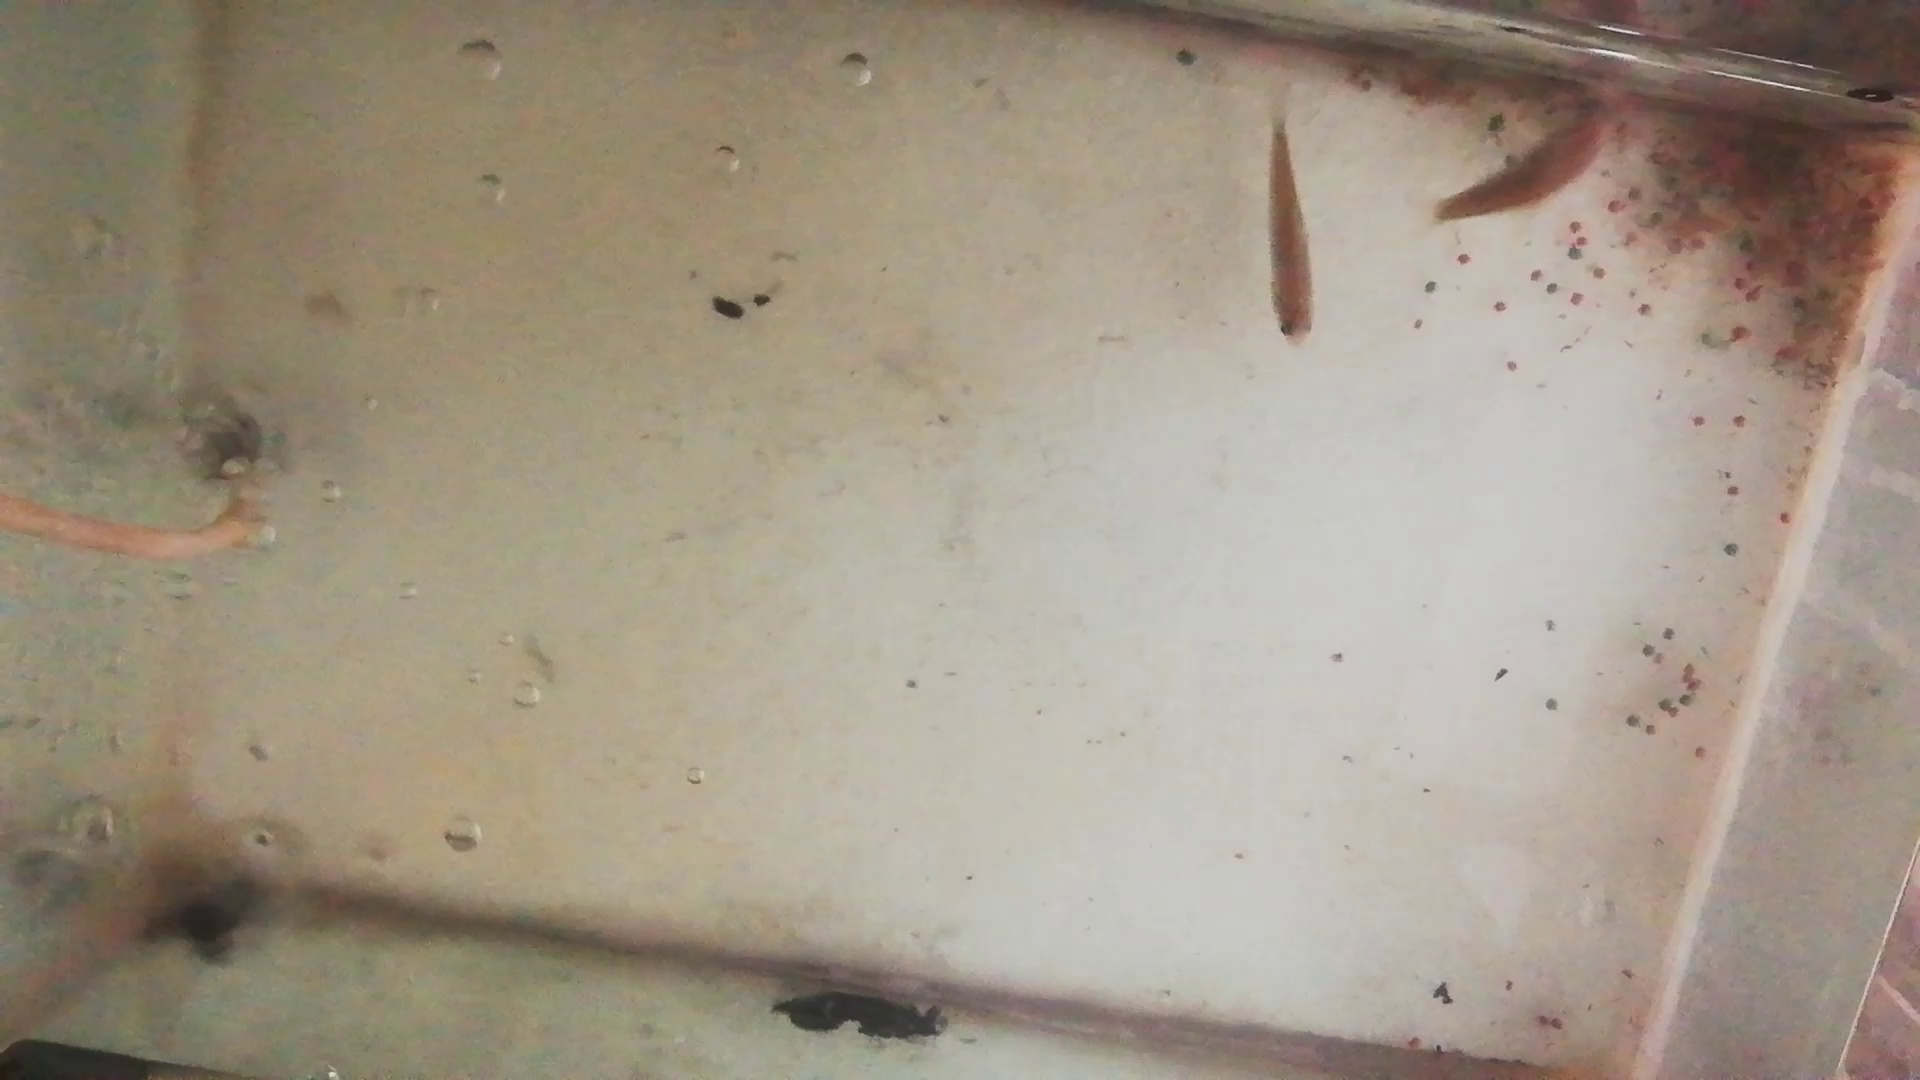fish: (1437, 109, 1610, 219), (1267, 131, 1321, 345)
